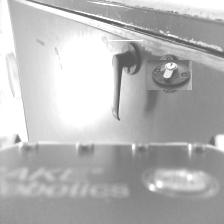Door Handle: (107, 40, 143, 121)
Lock: (150, 56, 188, 94)
